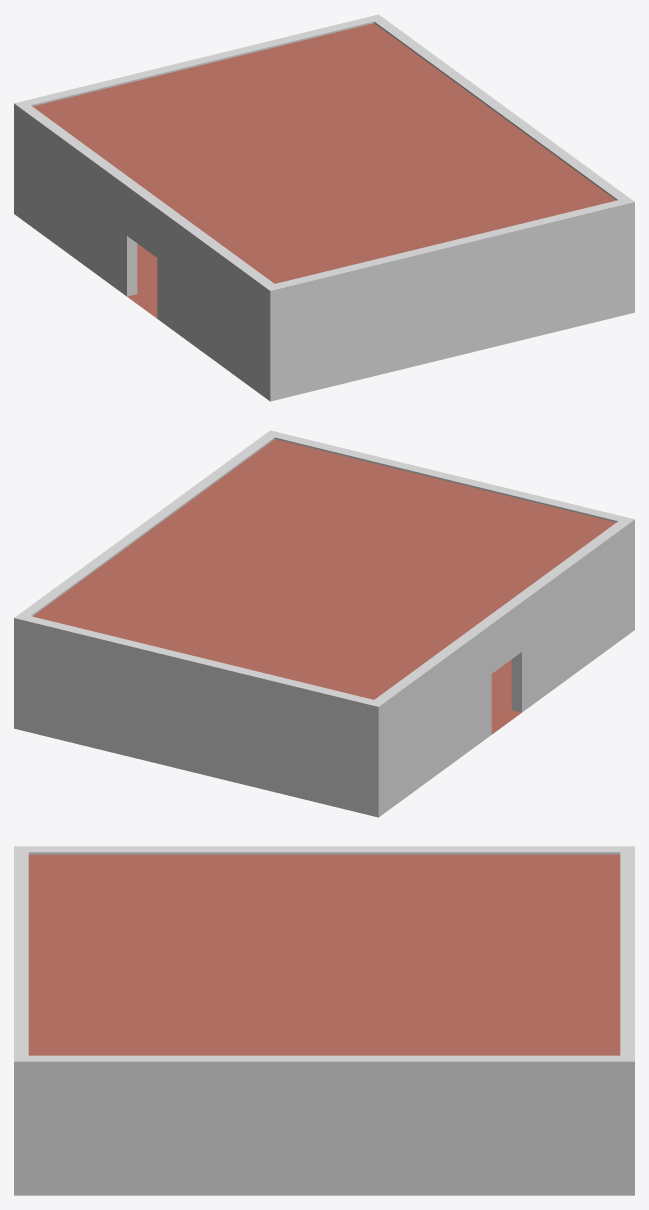
Rendered from town_hall.glb.
The picture shows the model from 3 angles, top to bottom: view 1: azimuth 30°, elevation 25°; view 2: azimuth 150°, elevation 25°; view 3: azimuth 270°, elevation 25°; orthographic projection. The views are drawn at different scales.
Visible parts, largest first — view 1: TownHallInterior; view 2: TownHallInterior; view 3: TownHallInterior.
Boxes of the visible parts, <box> form: TownHallInterior: <box>14,14,634,401</box>; TownHallInterior: <box>14,430,634,817</box>; TownHallInterior: <box>14,846,634,1195</box>.
Bounding box in the file's own units: 13.8 × 4 × 16.8.
